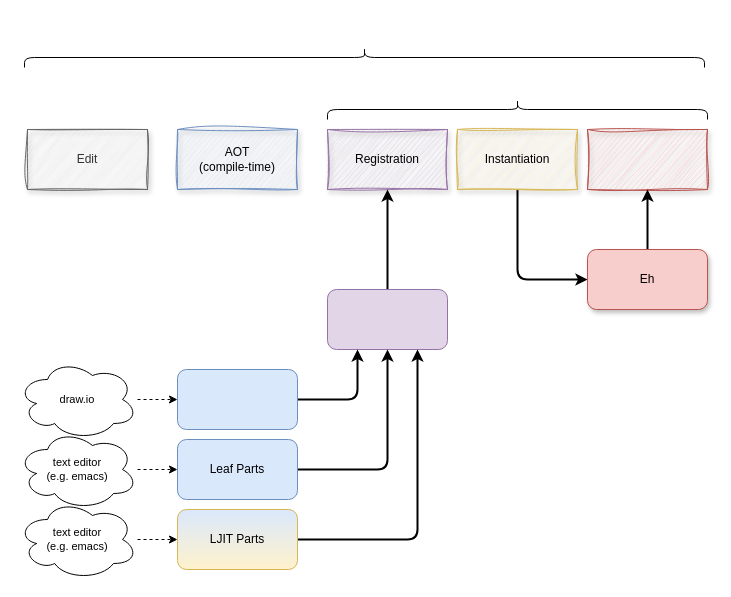
This 731x597 diagram has some shape labels left out. The shapes that lost their labels are listed below. From the top down, each one's centre as x and y in pixels, then its label:
At (x=364, y=57): "Development Workflow".
At (x=517, y=109): "Automated".
At (x=648, y=160): "Runtime".
At (x=387, y=319): "Templates".
At (x=237, y=399): "Container Parts (DPL)".
